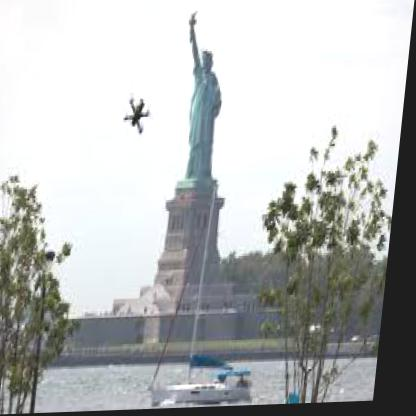UAS: (125, 97, 155, 137)
